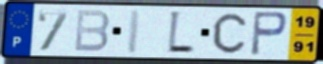7: (36, 8, 71, 52)
B: (72, 8, 112, 53)
C: (211, 12, 248, 55)
I: (124, 8, 144, 55)
L: (166, 9, 197, 56)
P: (248, 10, 290, 58)
